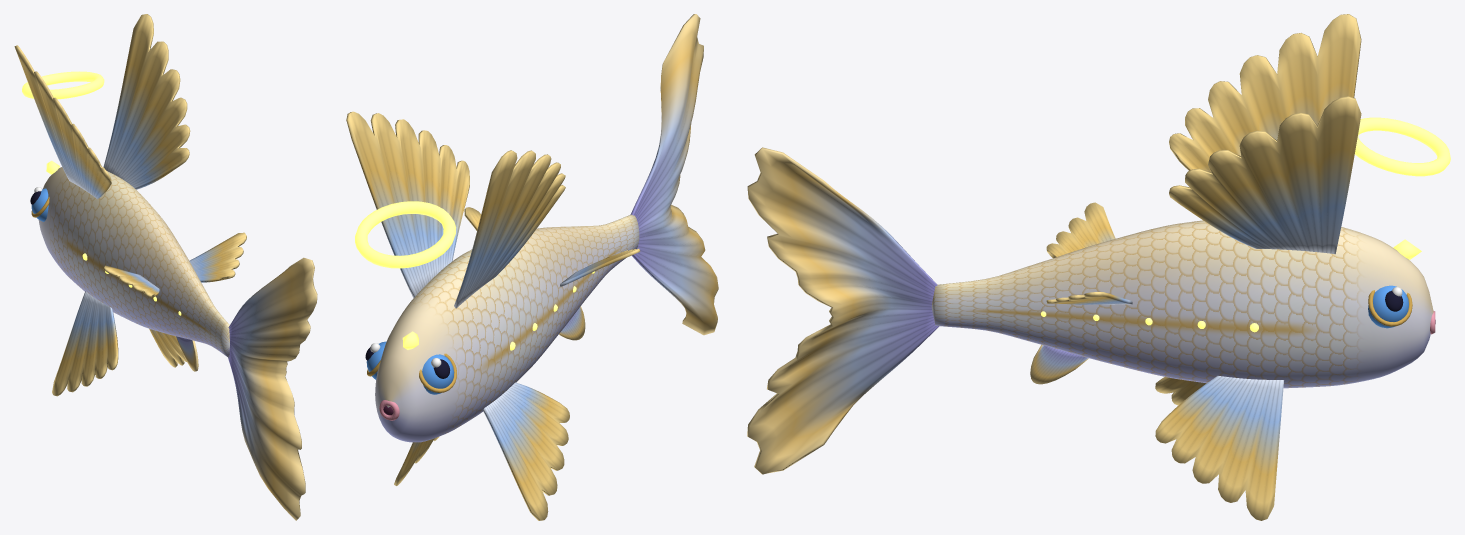
The model's file is SeraphFish.fbx.
3 renders of one model, left to right at view 1: azimuth 30°, elevation 25°; view 2: azimuth 150°, elevation 25°; view 3: azimuth 270°, elevation 25°, orthographic. The views are drawn at different scales.
Parts seen in each view (by area): view 1: SeraphFish, SeraphFish_Glow; view 2: SeraphFish, SeraphFish_Glow; view 3: SeraphFish, SeraphFish_Glow.
Part boxes in pixels (<box>): SeraphFish: <box>14,14,317,520</box>; SeraphFish_Glow: <box>22,71,181,315</box>; SeraphFish: <box>346,14,718,520</box>; SeraphFish_Glow: <box>355,201,594,350</box>; SeraphFish: <box>747,14,1435,520</box>; SeraphFish_Glow: <box>1041,117,1450,332</box>.
Bounding box in the file's own units: 189 × 415 × 617.
2 materials, 1 textured.
